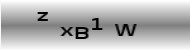1: (89, 16, 104, 31)
B: (74, 25, 90, 40)
W: (113, 22, 137, 37)
x: (59, 24, 74, 37)
z: (36, 11, 50, 22)
